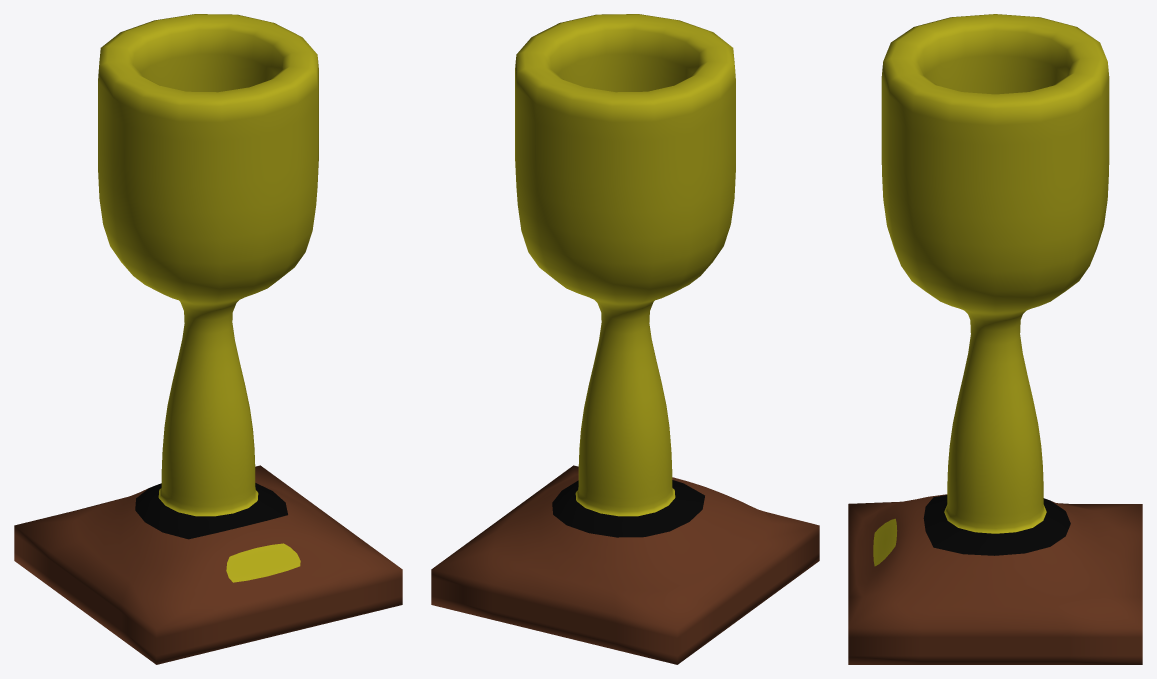
File: trophy.glb
The picture shows the model from 3 angles, left to right: view 1: azimuth 30°, elevation 25°; view 2: azimuth 150°, elevation 25°; view 3: azimuth 270°, elevation 25°; orthographic projection. The views are drawn at different scales.
Parts seen in each view (by area): view 1: trophy; view 2: trophy; view 3: trophy.
Boxes of the visible parts, bbox=[...] form: trophy: bbox=[14, 14, 402, 664]; trophy: bbox=[431, 14, 819, 664]; trophy: bbox=[848, 14, 1142, 664].
Size of the model in its own units: 1.08 by 2.2 by 1.08.
